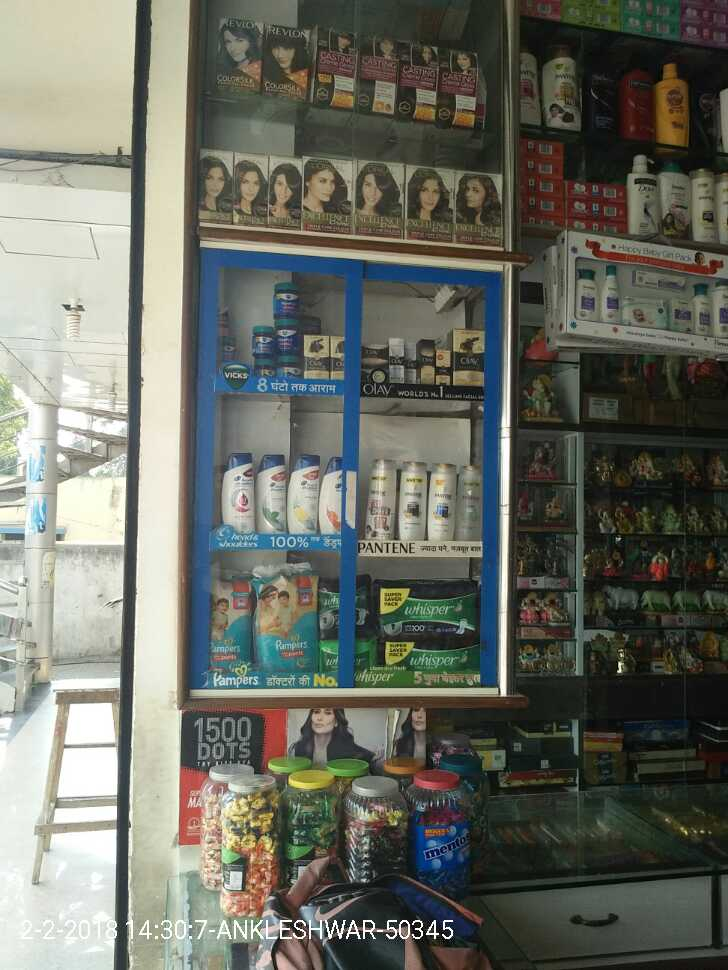beauty: (217, 451, 264, 533), (256, 452, 289, 530), (288, 453, 319, 533), (365, 458, 395, 539), (399, 456, 427, 539), (428, 457, 454, 542), (458, 456, 482, 544), (452, 330, 487, 388), (300, 337, 329, 376), (388, 337, 409, 385), (417, 338, 434, 381), (436, 351, 452, 384)
pharmacy: (255, 569, 322, 672), (373, 578, 478, 636), (208, 571, 254, 675), (379, 638, 478, 669), (268, 283, 301, 321), (277, 324, 302, 351), (251, 323, 269, 355)
